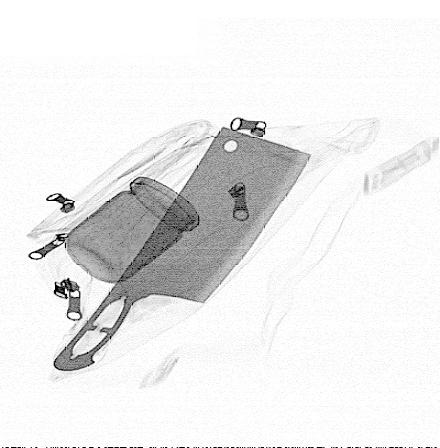Knife: (53, 125, 314, 372)
